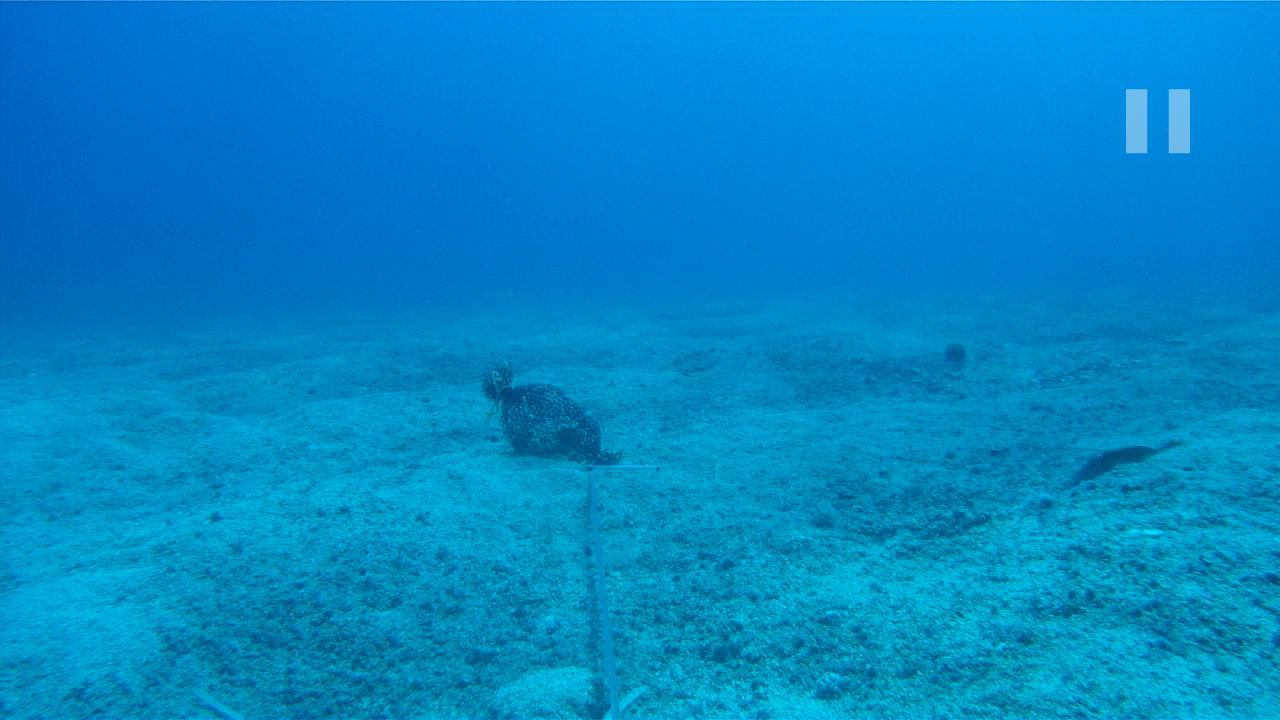bothus: (1064, 427, 1190, 452)
